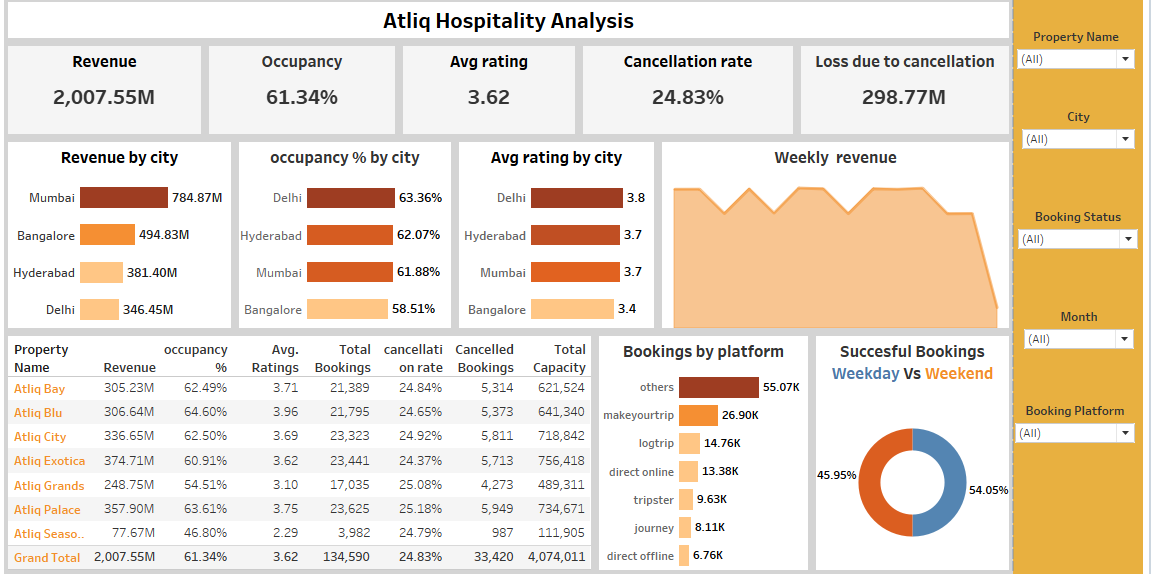

This screenshot's page, from the dashboard's own definition file:
{"tool":"tableau","page":{"name":"Atliq Hospitality Analysis","canvas":[1000,1000],"units":"permille","ordinal":0},"visuals":[{"type":"title","box":[6.9,13.5,873.6,74.3]},{"type":"filter","title":"Revenue","param":"[federated.1itx6nb17r3tpf1e4qv6j1382sir].[none:property_name:nk]","box":[881.4,64.2,107.4,74.3]},{"type":"worksheet","title":"Revenue","mark":"Text","box":[6.9,87.8,174,162.2]},{"type":"worksheet","title":"Occupancy","mark":"Automatic","box":[181,87.8,167.9,162.2]},{"type":"worksheet","title":"Avg rating","mark":"Automatic","box":[348.8,87.8,155.7,162.2]},{"type":"worksheet","title":"Cancellation rate","mark":"Automatic","box":[504.5,87.8,188.9,162.2]},{"type":"worksheet","title":"Loss due to cancellation","mark":"Automatic","box":[693.4,87.8,187.1,162.2]},{"type":"filter","title":"Revenue","param":"[federated.1itx6nb17r3tpf1e4qv6j1382sir].[none:city:nk]","box":[885.7,199.3,103,74.3]},{"type":"worksheet","title":"Revenue by city","mark":"Automatic","rows":["city"],"cols":["revenue_generated"],"box":[6.9,250,200,327.7]},{"type":"worksheet","title":"occupancy % by city","mark":"Automatic","rows":["city"],"cols":["Calculation_545498567767699456"],"box":[206.9,250,190.5,327.7]},{"type":"worksheet","title":"Avg rating by city","mark":"Automatic","rows":["city"],"cols":["ratings_given"],"box":[397.4,250,175.8,327.7]},{"type":"worksheet","title":"Weekly  revenue","mark":"Line","rows":["revenue_generated","revenue_generated"],"cols":["week no"],"box":[573.2,250,307.3,327.7]},{"type":"filter","title":"Revenue","param":"[federated.1itx6nb17r3tpf1e4qv6j1382sir].[none:booking_status:nk]","box":[882.2,368.2,109.1,89.5]},{"type":"filter","title":"Revenue","param":"[federated.1itx6nb17r3tpf1e4qv6j1382sir].[none:Calculation_721138953539354625:nk","box":[887.5,537.2,100.4,91.2]},{"type":"worksheet","title":"Sheet 10","mark":"Automatic","rows":["property_name"],"box":[6.9,577.7,511.6,408.8]},{"type":"worksheet","title":"Bookings by platform","mark":"Bar","rows":["booking_platform"],"cols":["booking_id"],"box":[518.5,577.7,187.9,408.8]},{"type":"worksheet","title":"Succesful Bookings","mark":"Pie","rows":["Calculation_545498567799246855","Calculation_545498567799300106"],"box":[706.4,577.7,174.2,408.8]},{"type":"filter","title":"Revenue","param":"[federated.1itx6nb17r3tpf1e4qv6j1382sir].[none:booking_platform:nk]","box":[879.6,696,109.1,74.3]}]}

Visuals, with their boxes on the dashboard's canvas, which has no fixed pixel size, in thousandths of its width and height (x1, y1, x2, y2). These are canvas units, not pixel positions in the 1151x574 screenshot, which may show the page scaled, cropped or inside an application window:
title: x1=7 y1=14 x2=880 y2=88
"Revenue" filter: x1=881 y1=64 x2=989 y2=138
"Revenue" worksheet (Text marks): x1=7 y1=88 x2=181 y2=250
"Occupancy" worksheet: x1=181 y1=88 x2=349 y2=250
"Avg rating" worksheet: x1=349 y1=88 x2=504 y2=250
"Cancellation rate" worksheet: x1=504 y1=88 x2=693 y2=250
"Loss due to cancellation" worksheet: x1=693 y1=88 x2=880 y2=250
"Revenue" filter: x1=886 y1=199 x2=989 y2=274
"Revenue by city" worksheet: x1=7 y1=250 x2=207 y2=578
"occupancy % by city" worksheet: x1=207 y1=250 x2=397 y2=578
"Avg rating by city" worksheet: x1=397 y1=250 x2=573 y2=578
"Weekly  revenue" worksheet (Line marks): x1=573 y1=250 x2=880 y2=578
"Revenue" filter: x1=882 y1=368 x2=991 y2=458
"Revenue" filter: x1=888 y1=537 x2=988 y2=628
"Sheet 10" worksheet: x1=7 y1=578 x2=518 y2=986
"Bookings by platform" worksheet (Bar marks): x1=518 y1=578 x2=706 y2=986
"Succesful Bookings" worksheet (Pie marks): x1=706 y1=578 x2=881 y2=986
"Revenue" filter: x1=880 y1=696 x2=989 y2=770
